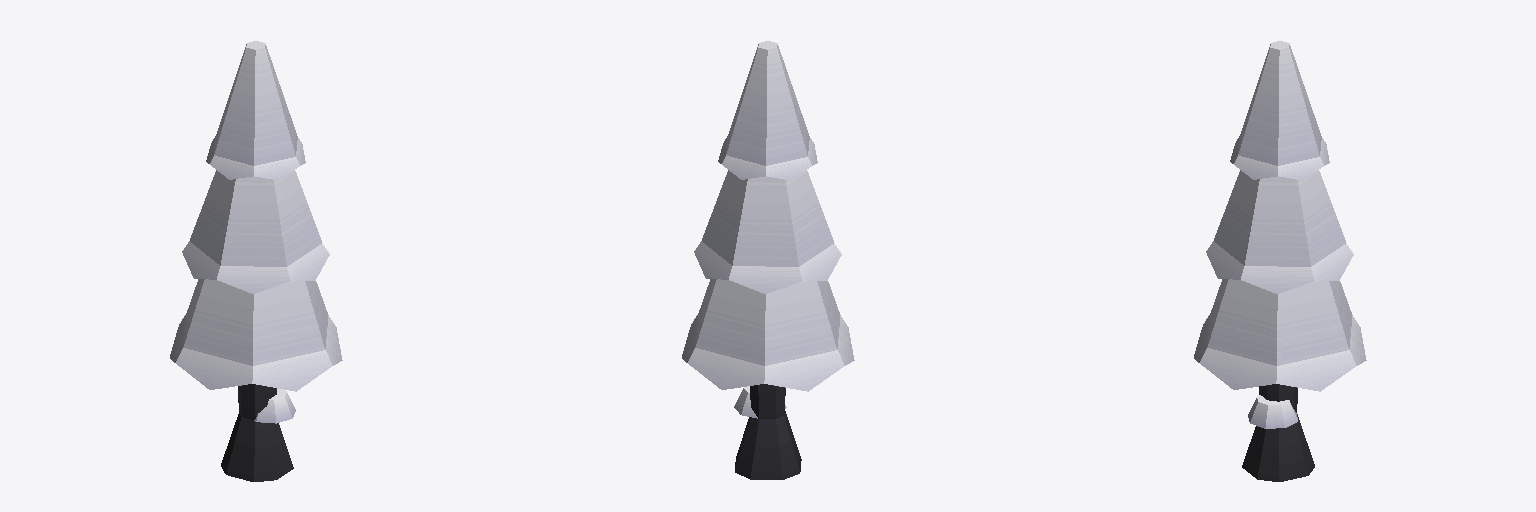
3 views of the same model, side by side, from view 1: azimuth 30°, elevation 25°; view 2: azimuth 150°, elevation 25°; view 3: azimuth 270°, elevation 25° (orthographic).
Visible parts, largest first — view 1: tree.034; view 2: tree.034; view 3: tree.034.
Boxes of the visible parts, x1,y1,x2,y2 form: tree.034: [170, 41, 342, 481]; tree.034: [682, 41, 854, 479]; tree.034: [1194, 41, 1366, 481].
Bounding box in the file's own units: 1.36 × 3.47 × 1.29.
1 materials, 1 textured.